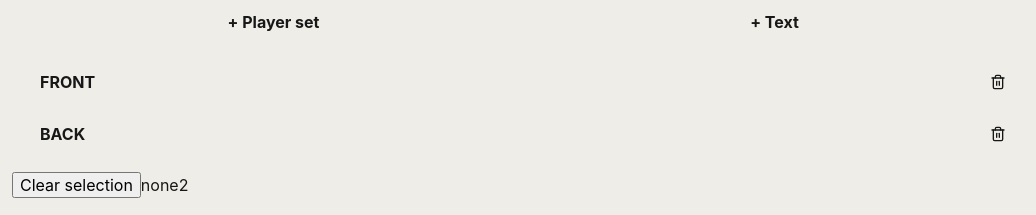
Test: PersonalizePanel › serializes rapid row deletions and re-enables the remaining action after success
This screenshot has width=1036, height=215.
Click the button named "Delete text FRONT (text-1)" at (998, 82), box [976,60,1020,104]
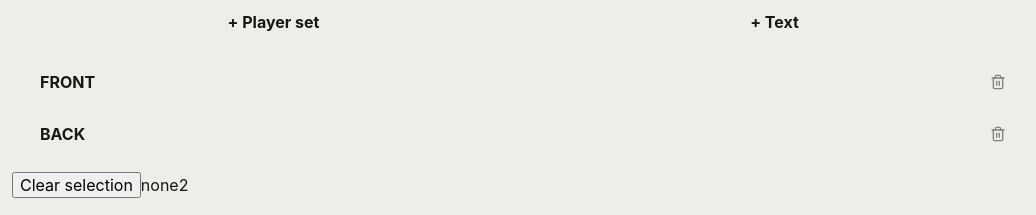
Expected: the button named "Delete text FRONT (text-1)" is disabled, [976,60,1020,104]
Expected: the button named "Delete text BACK (text-2)" is disabled
Click the button named "Delete text BACK (text-2)" at (998, 134), box [976,112,1020,156]
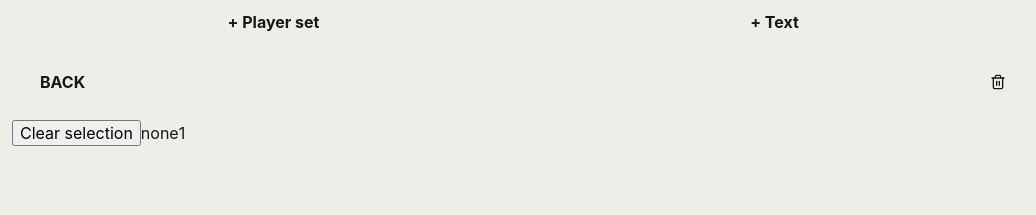
Expected: the button named "Delete text BACK (text-2)" is enabled, [976,60,1020,104]
